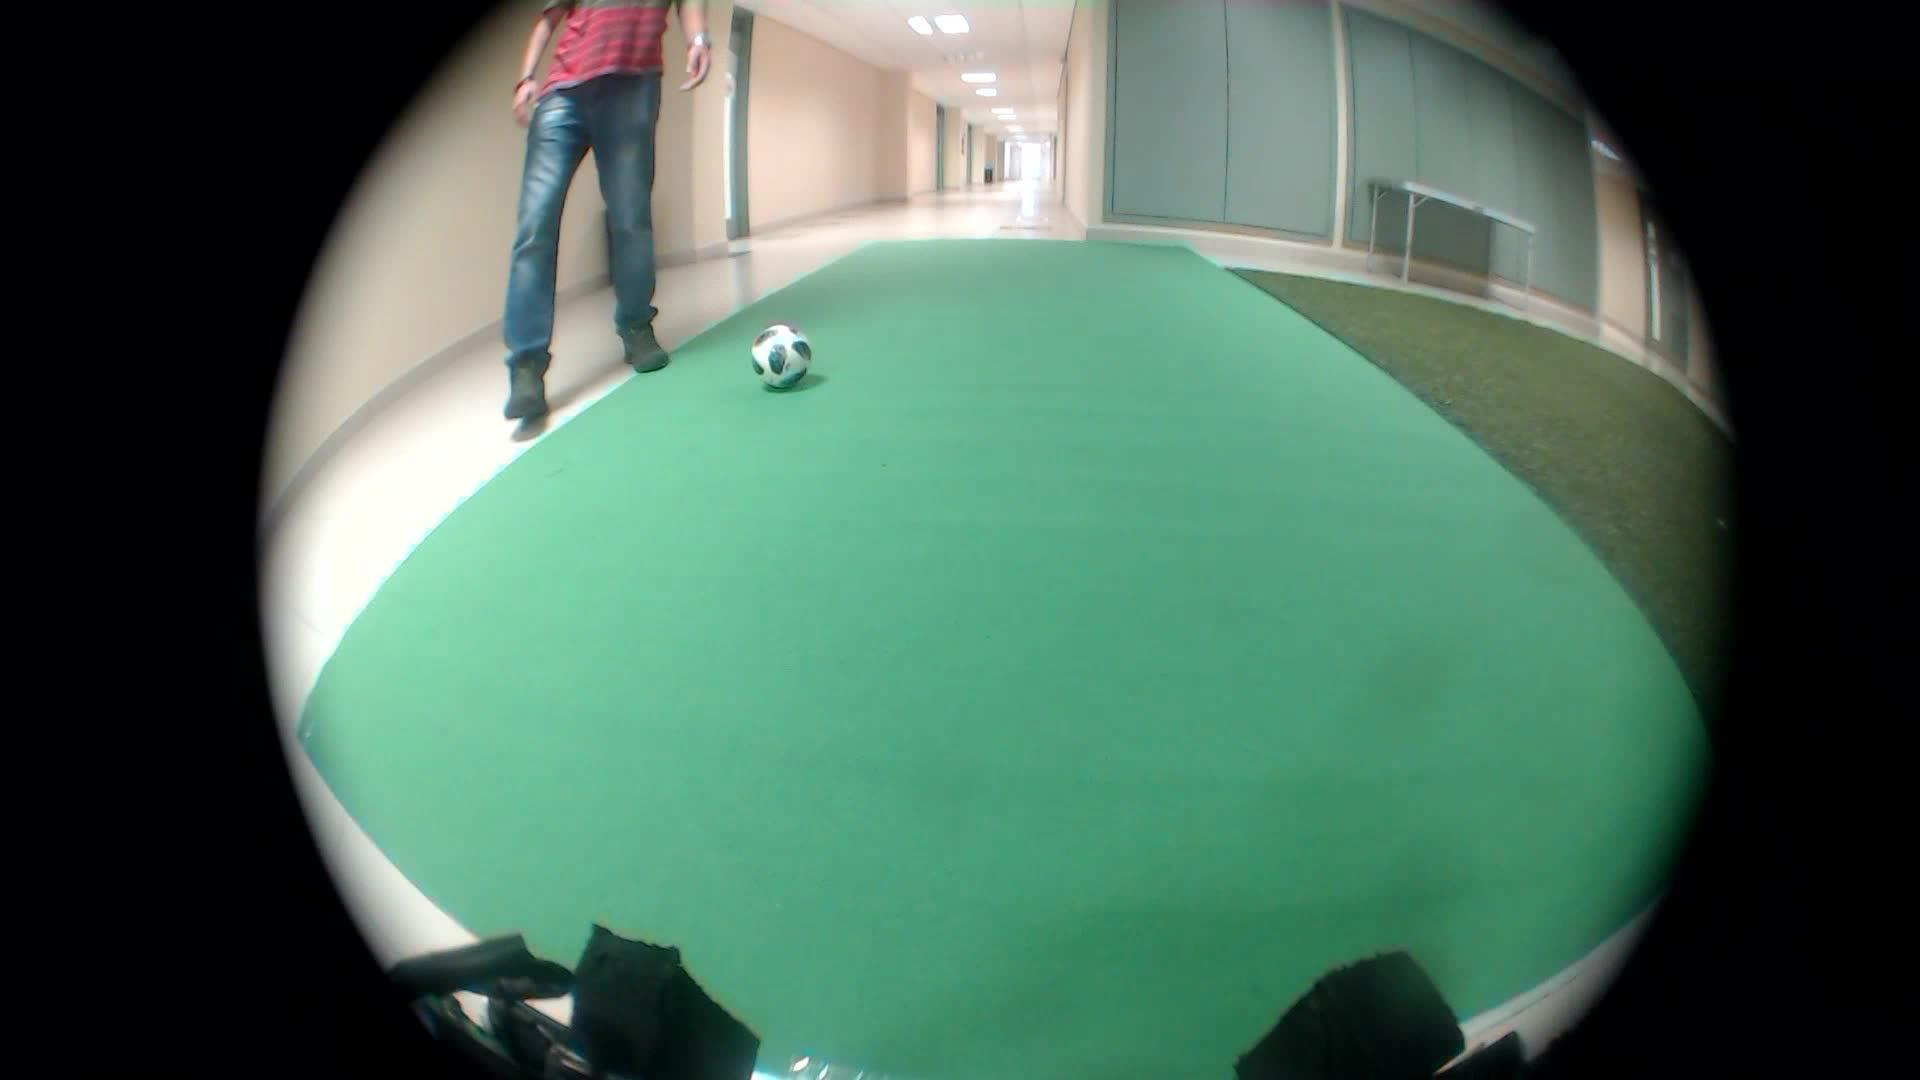ball: (738, 313, 824, 396)
